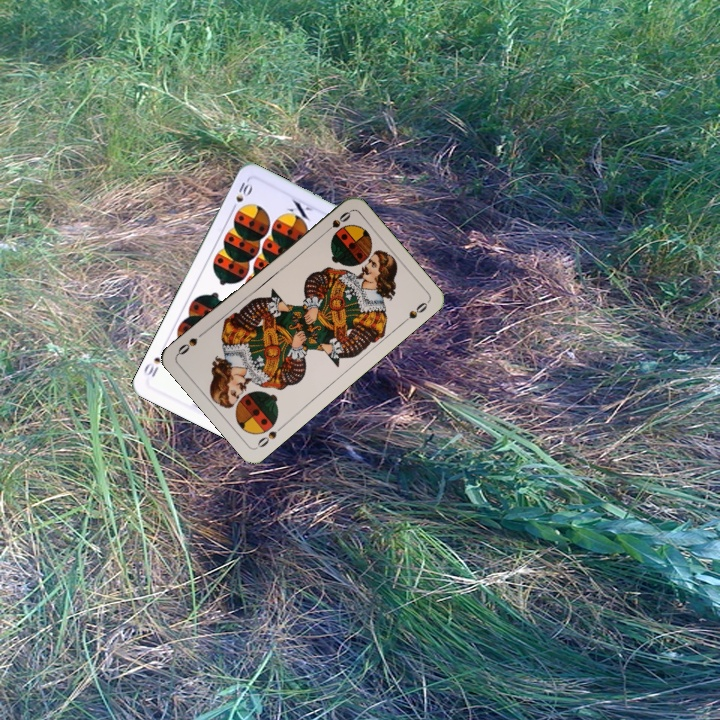S10: (227, 178, 255, 214)
SO: (319, 207, 353, 237), (253, 421, 287, 450)
